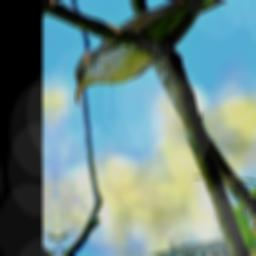Cuckoo: (68, 0, 256, 106)
